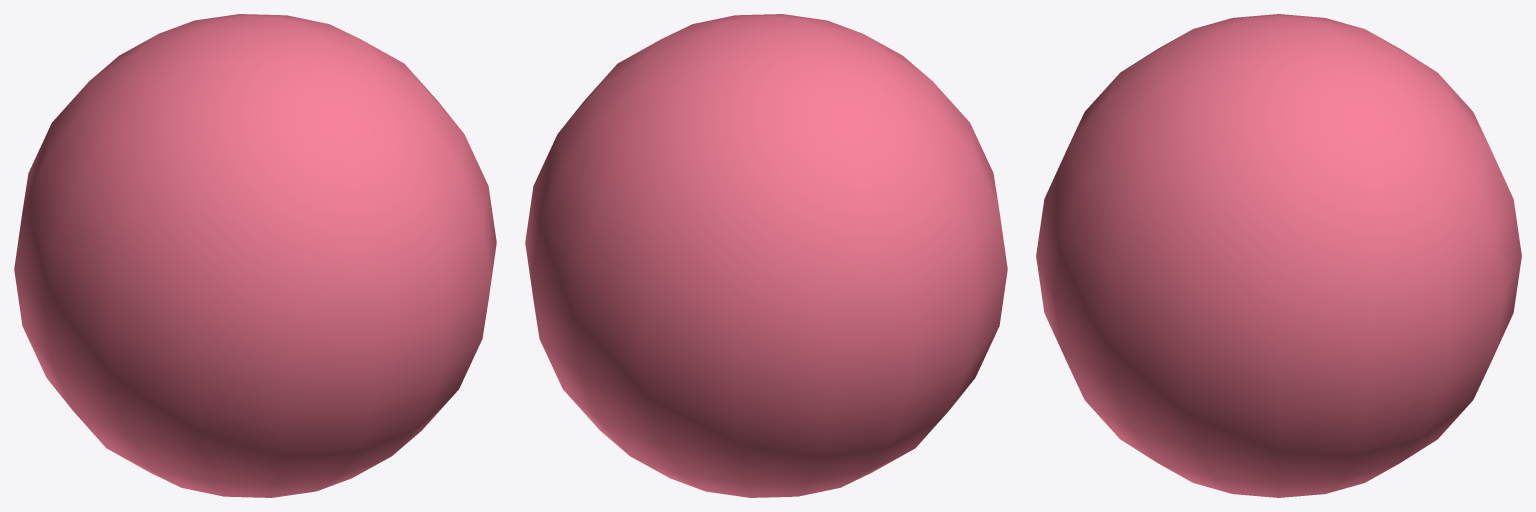
The model's file is strawberry.glb.
3 renders of one model, left to right at view 1: azimuth 30°, elevation 25°; view 2: azimuth 150°, elevation 25°; view 3: azimuth 270°, elevation 25°, orthographic.
Parts seen in each view (by area): view 1: Fruit; view 2: Fruit; view 3: Fruit.
Part boxes in pixels (x1,y1,x2,y2): Fruit: (14,14,496,497); Fruit: (525,14,1007,497); Fruit: (1036,14,1521,497).
Size of the model in its own units: 1 by 1 by 1.
